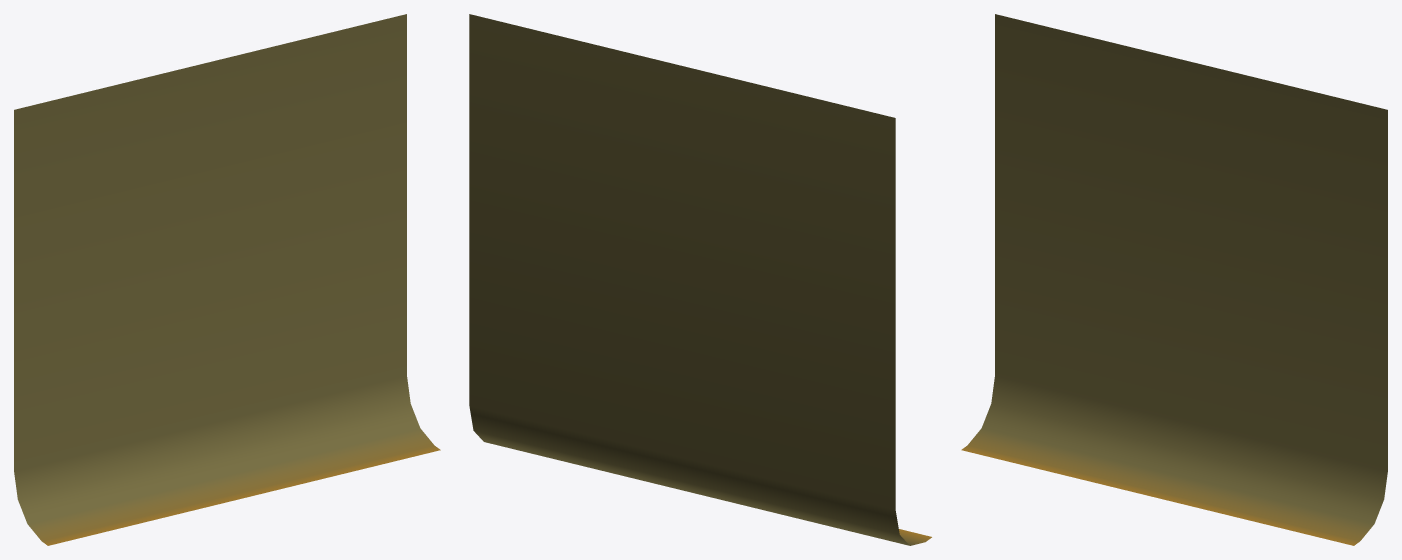
The model's file is Base_RoadWall.fbx.
3 renders of one model, left to right at view 1: azimuth 30°, elevation 25°; view 2: azimuth 150°, elevation 25°; view 3: azimuth 330°, elevation 25°, orthographic. The views are drawn at different scales.
Parts seen in each view (by area): view 1: Base_RoadWall; view 2: Base_RoadWall; view 3: Base_RoadWall.
Part boxes in pixels (box(x1,y1,x2,y2)): Base_RoadWall: box(14, 14, 440, 545); Base_RoadWall: box(469, 14, 931, 545); Base_RoadWall: box(961, 14, 1387, 545).
Size of the model in its own units: 2000 by 2000 by 300.
